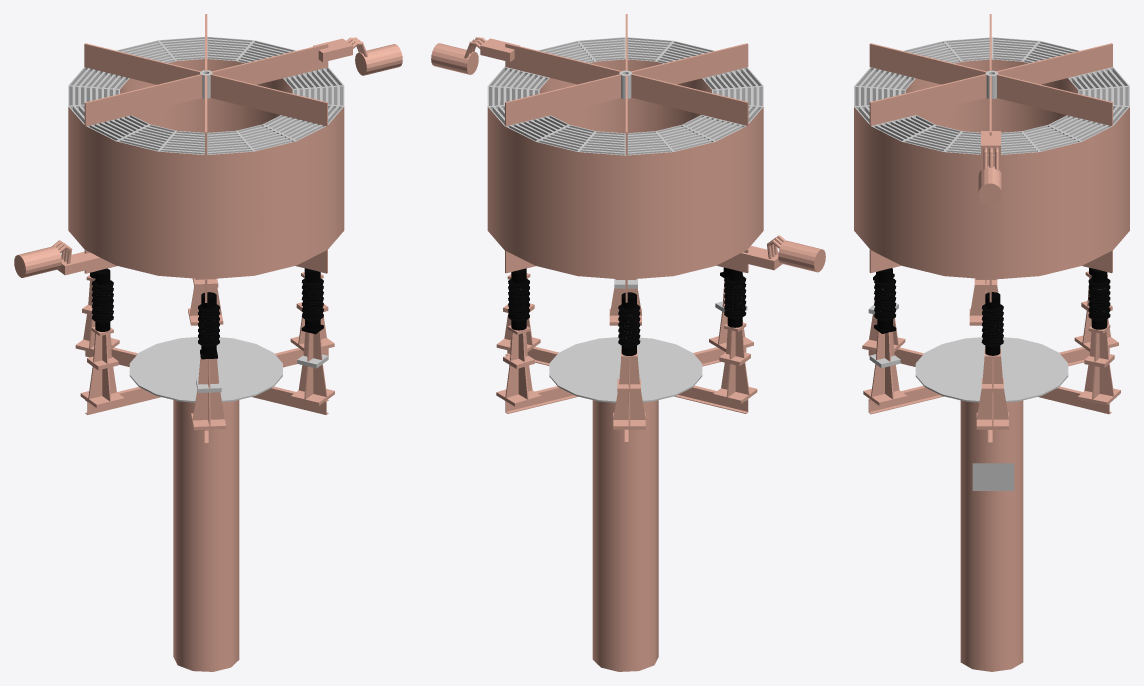
The model's file is 良庆站220kV_10kV_变电设备_一次设备_电抗器_51e6e51.glb.
3 views of the same model, side by side, from view 1: azimuth 30°, elevation 25°; view 2: azimuth 150°, elevation 25°; view 3: azimuth 270°, elevation 25° (orthographic).
Parts seen in each view (by area): view 1: 良庆站220kV_10kV_变电设备_一次设备_电抗器_51e; view 2: 良庆站220kV_10kV_变电设备_一次设备_电抗器_51e; view 3: 良庆站220kV_10kV_变电设备_一次设备_电抗器_51e.
Part boxes in pixels (x1=…): 良庆站220kV_10kV_变电设备_一次设备_电抗器_51e: x1=14, y1=14, x2=402, y2=671; 良庆站220kV_10kV_变电设备_一次设备_电抗器_51e: x1=431, y1=14, x2=825, y2=671; 良庆站220kV_10kV_变电设备_一次设备_电抗器_51e: x1=854, y1=14, x2=1129, y2=671.
Size of the model in its own units: 3.39 by 4.99 by 2.13.
